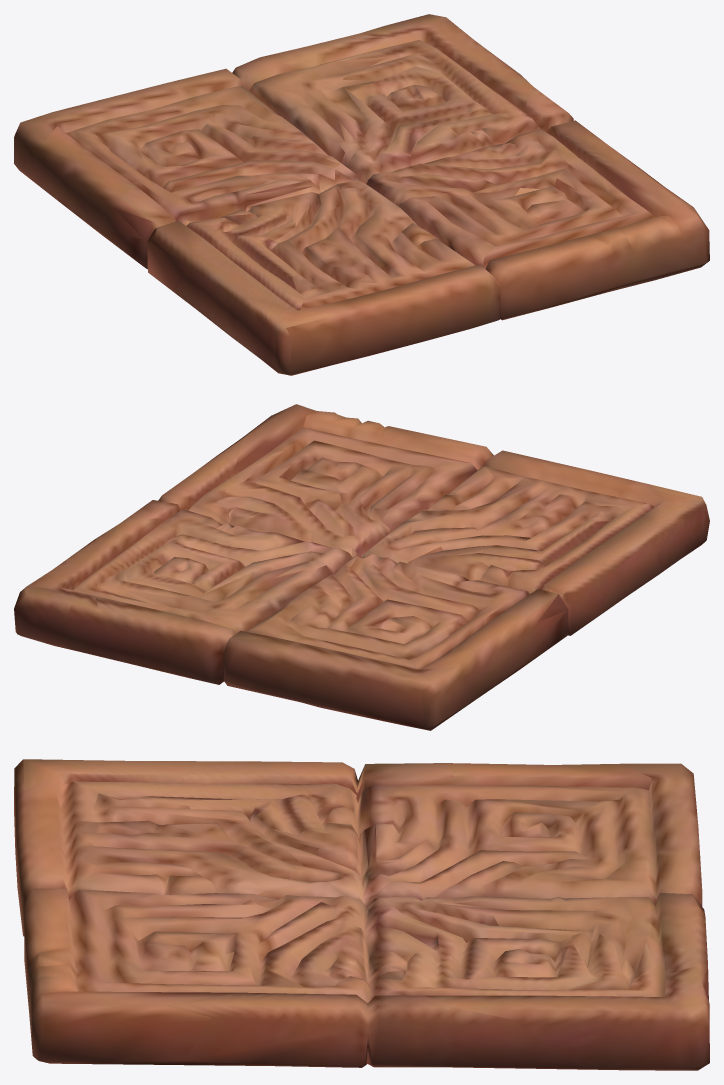
The model's file is c03_piso_entalhado_2x2.glb.
The picture shows the model from 3 angles, top to bottom: view 1: azimuth 30°, elevation 25°; view 2: azimuth 150°, elevation 25°; view 3: azimuth 270°, elevation 25°; orthographic projection. The views are drawn at different scales.
Parts seen in each view (by area): view 1: c03_piso_entalhado_2x2; view 2: c03_piso_entalhado_2x2; view 3: c03_piso_entalhado_2x2.
Boxes of the visible parts, <box> form: c03_piso_entalhado_2x2: <box>14,14,709,375</box>; c03_piso_entalhado_2x2: <box>14,404,709,730</box>; c03_piso_entalhado_2x2: <box>14,759,709,1070</box>.
Size of the model in its own units: 1.88 by 0.2002 by 2.12.
Materials: 1 (1 with a texture image).
